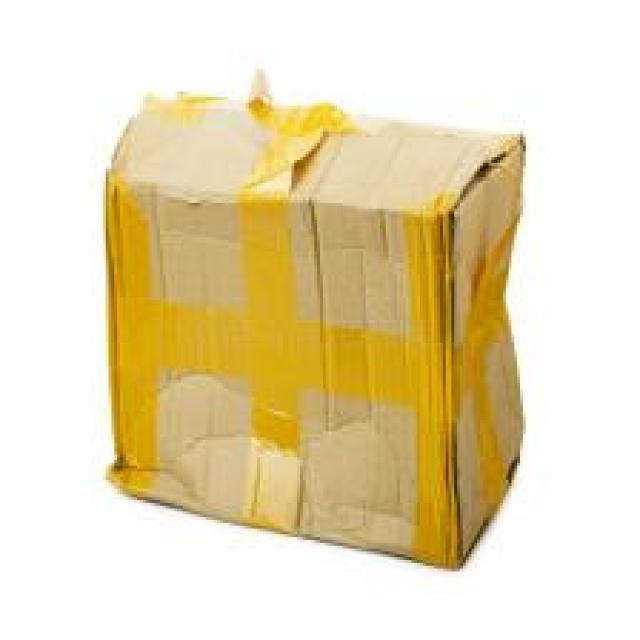box: (80, 87, 599, 509)
opened: (81, 88, 599, 445)
